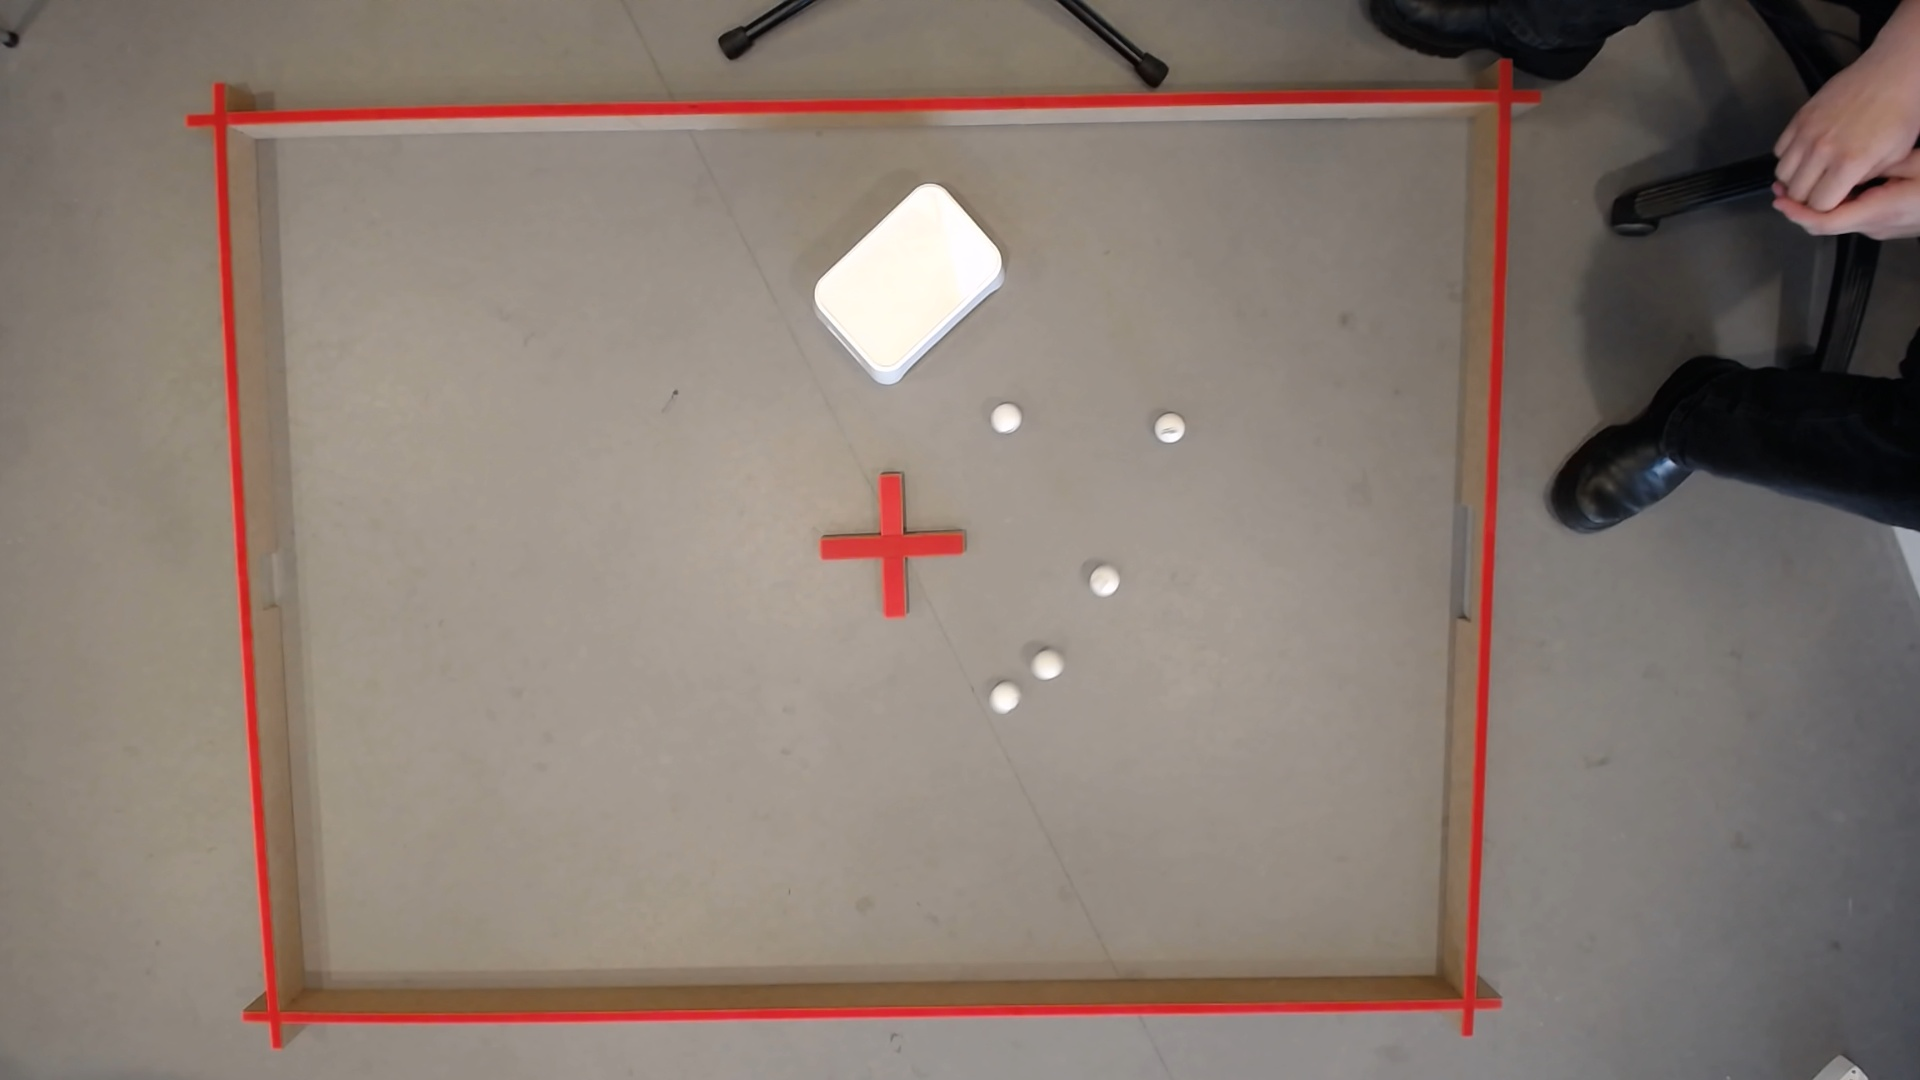balls: (798, 173, 1018, 390), (1820, 156, 1871, 210), (985, 679, 1022, 716), (986, 400, 1022, 436), (1087, 564, 1121, 599), (1030, 650, 1063, 683), (1156, 418, 1184, 443)
car: (1832, 207, 1867, 229)
